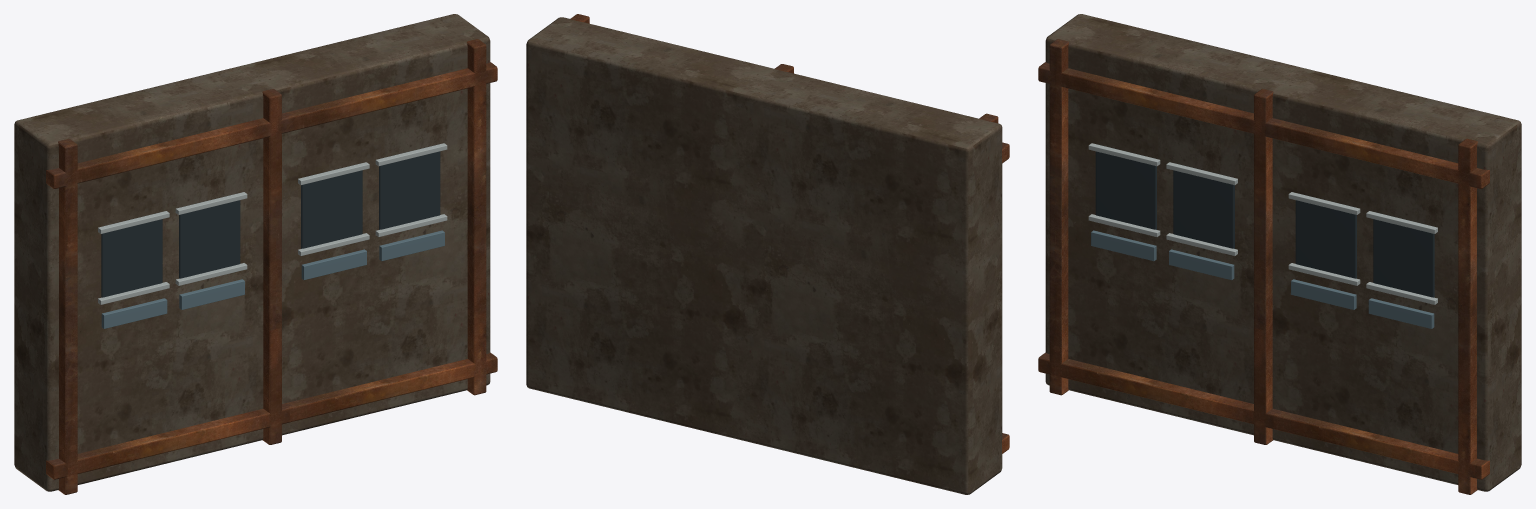
File: industrial-facade.glb
The picture shows the model from 3 angles, left to right: view 1: azimuth 30°, elevation 25°; view 2: azimuth 150°, elevation 25°; view 3: azimuth 330°, elevation 25°; orthographic projection.
Parts seen in each view (by area): view 1: industrial-facade; view 2: industrial-facade; view 3: industrial-facade.
Boxes of the visible parts, x1,y1,x2,y2 form: industrial-facade: (14, 14, 497, 494); industrial-facade: (526, 14, 1009, 494); industrial-facade: (1038, 14, 1521, 494).
Bounding box in the file's own units: 4 × 3 × 0.645.
5 materials, 2 textured.
